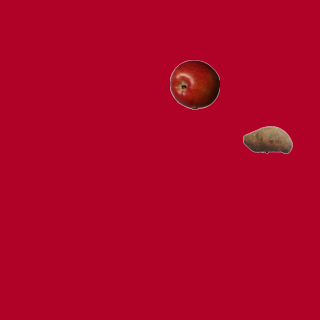Apple Braeburn: (169, 59, 219, 109)
Potato Sweet: (242, 114, 292, 164)
